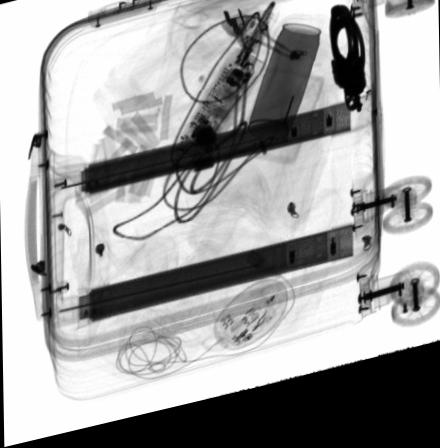HandCuffs: (327, 19, 367, 128)
